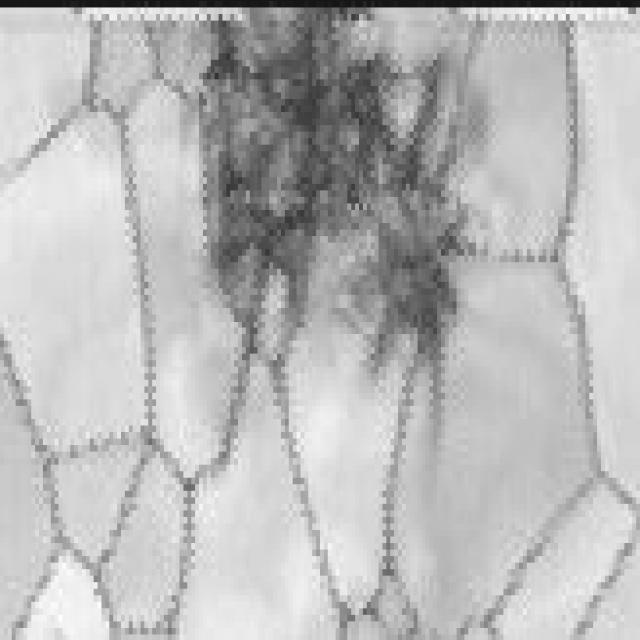good_void: (201, 5, 495, 443)
